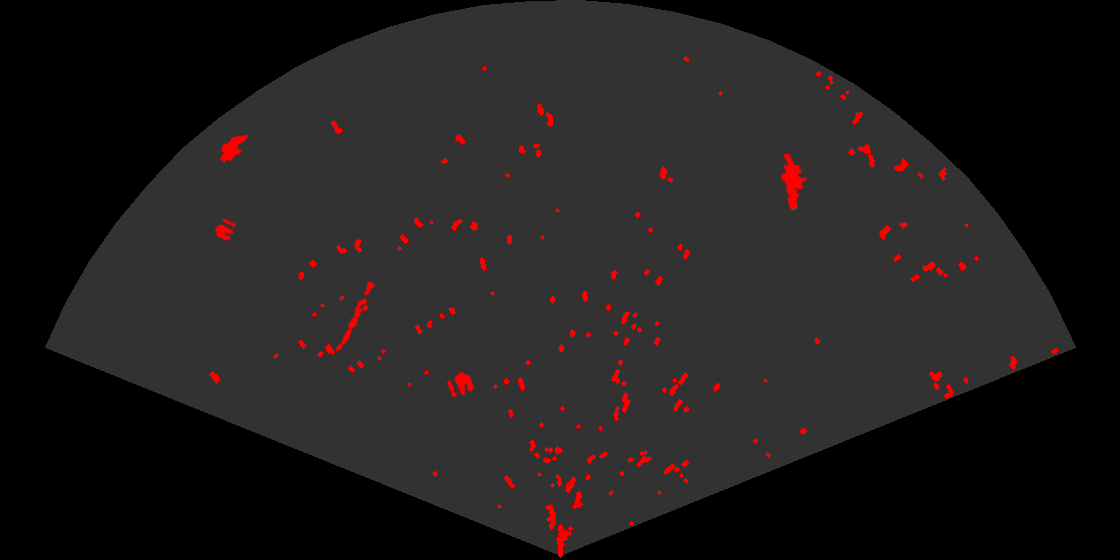AUV: (218, 133, 250, 164)
ball: (445, 370, 476, 399), (213, 217, 238, 243)
chain: (334, 277, 377, 354)
frogman: (779, 154, 808, 212)
